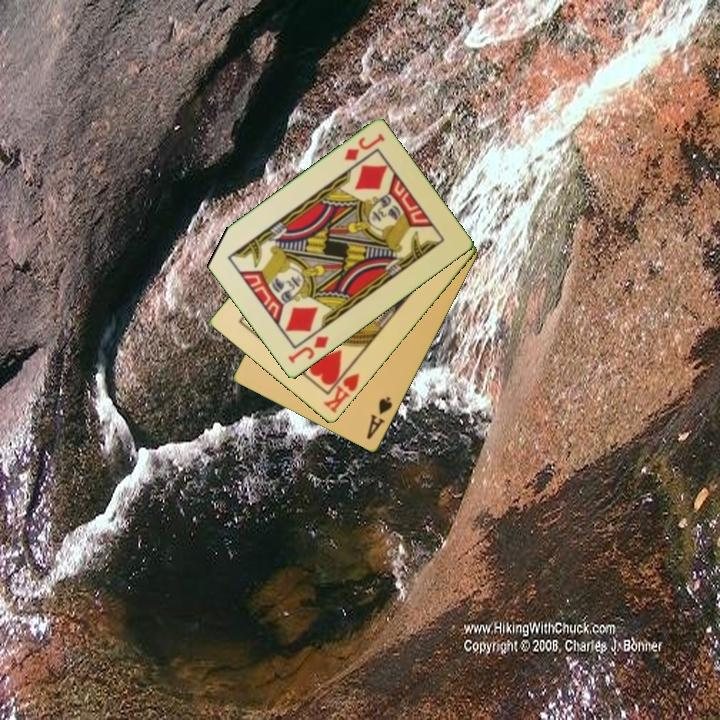As: (363, 393, 396, 443)
Jd: (284, 333, 332, 367), (340, 130, 388, 164)
Kh: (320, 362, 362, 417)
